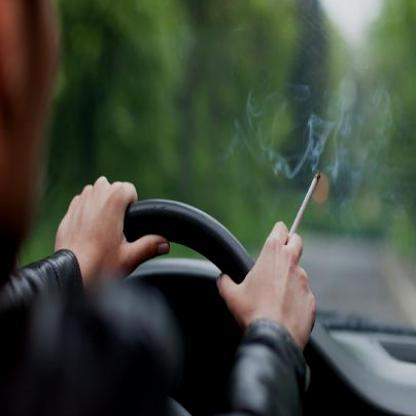cigarette: (287, 171, 324, 241)
smoke: (305, 103, 352, 167), (269, 145, 292, 185)
